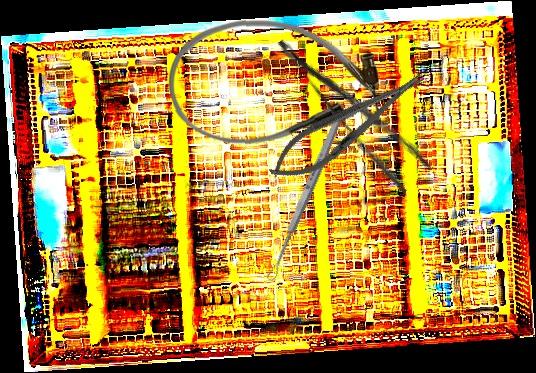Cannula: (165, 18, 384, 147)
Dressing Forceps: (274, 17, 434, 197)
Needle Holder: (260, 58, 435, 195)
Surgical Spoon: (264, 113, 345, 284)
